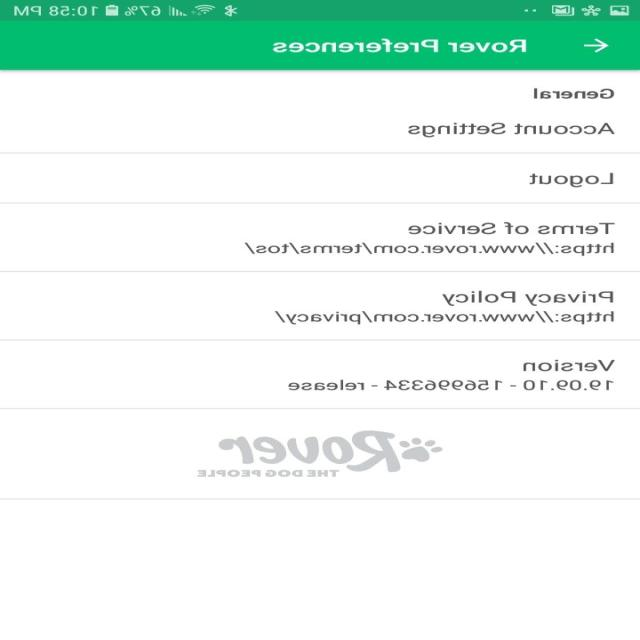Icon: (583, 38, 610, 53)
Image: (197, 430, 443, 477)
Text: (244, 242, 616, 256), (274, 310, 616, 324), (273, 38, 527, 53), (288, 379, 614, 390), (408, 122, 616, 137), (442, 290, 614, 307), (408, 222, 615, 235), (528, 172, 614, 188), (522, 359, 616, 372), (533, 88, 615, 100)
